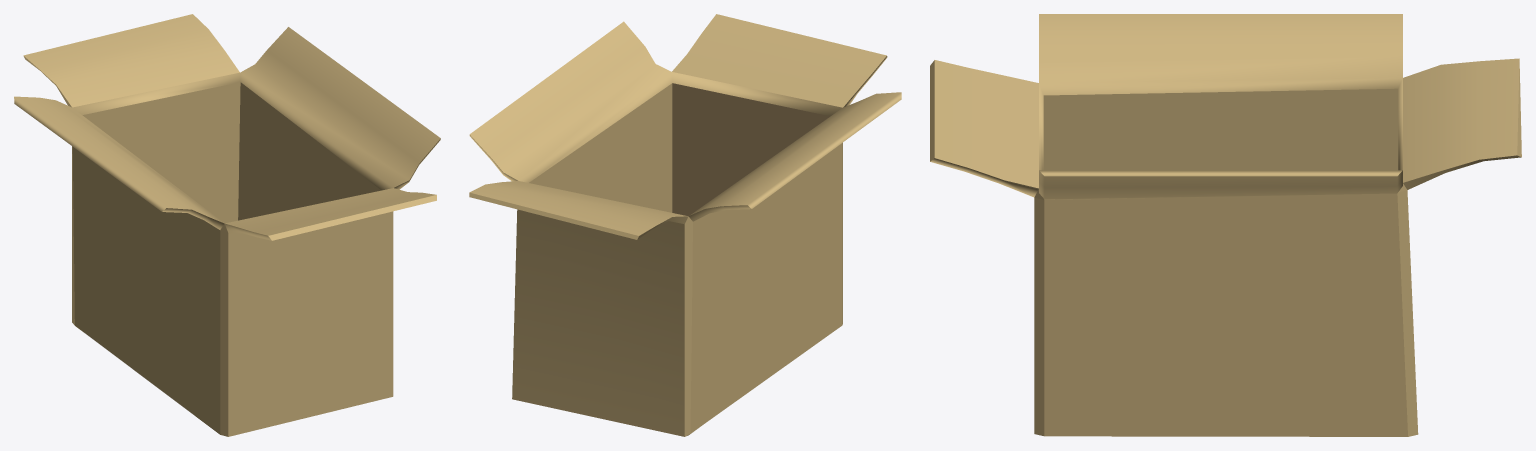
Rendered from moving box 4.fbx.
3 views of the same model, side by side, from view 1: azimuth 30°, elevation 25°; view 2: azimuth 150°, elevation 25°; view 3: azimuth 270°, elevation 25° (orthographic). The views are drawn at different scales.
Parts seen in each view (by area): view 1: pCube56; view 2: pCube56; view 3: pCube56.
Part boxes in pixels (x1,y1,x2,y2): pCube56: (14,14,440,436); pCube56: (469,14,901,436); pCube56: (930,14,1521,436).
Bounding box in the file's own units: 1.03 × 0.8673 × 1.58.
